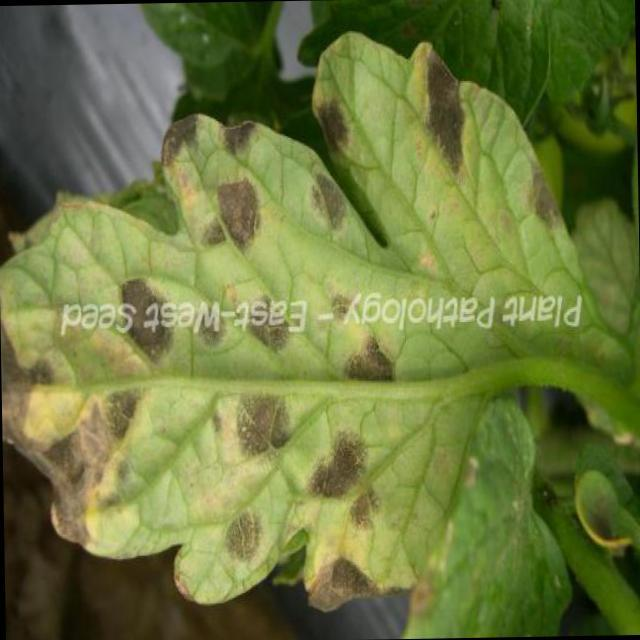Leaf Mold: (0, 27, 619, 630)
